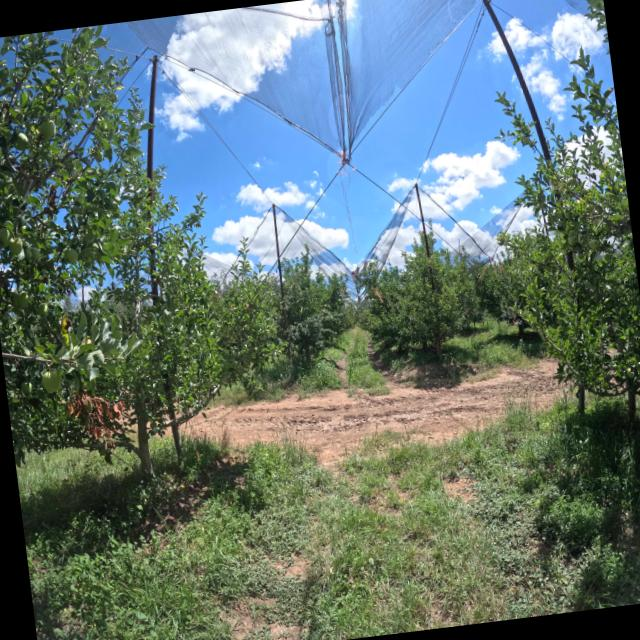-FireBlight-: (65, 384, 130, 453)
